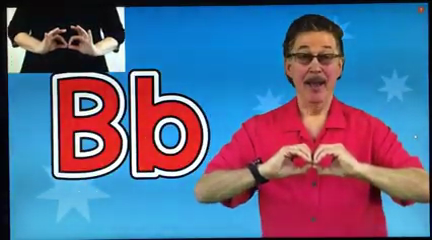B: (272, 141, 362, 179), (38, 23, 98, 55)
